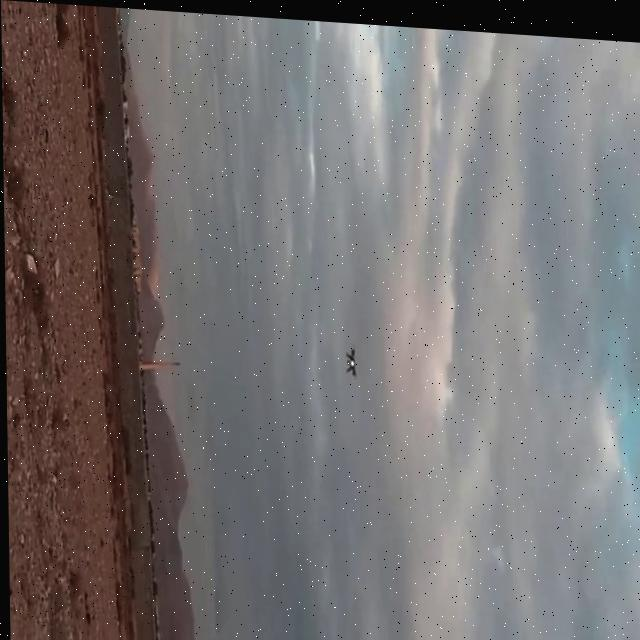drone: (340, 340, 360, 381)
